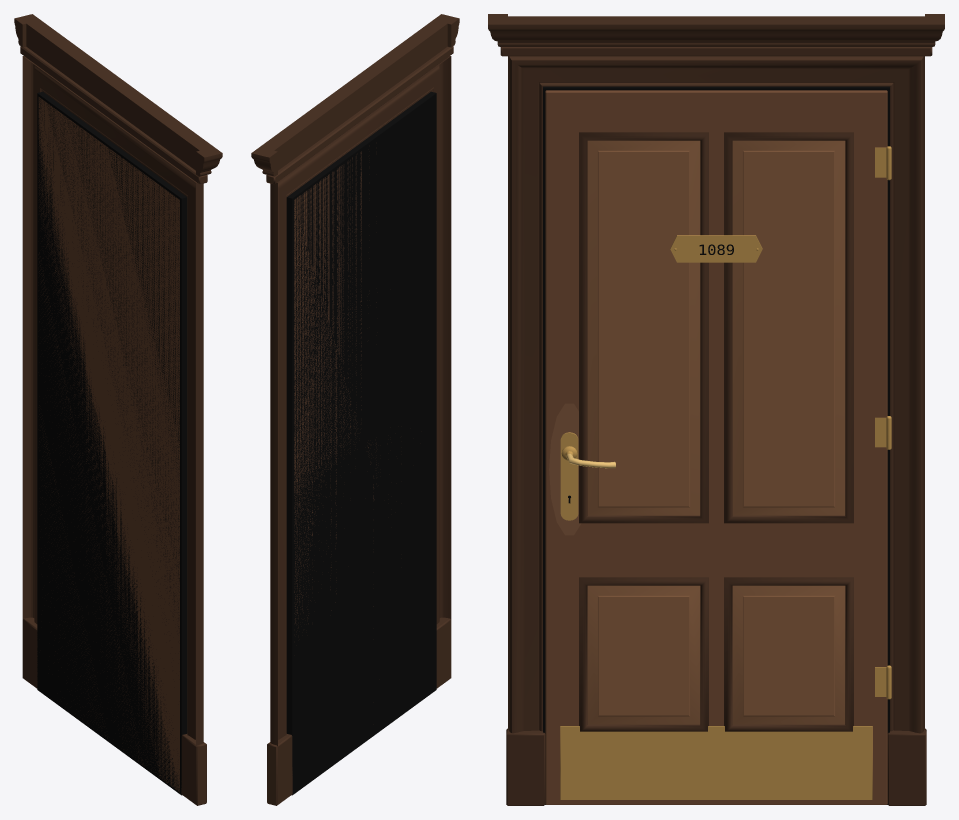
File: hotel_door_f@1.glb
3 views of the same model, side by side, from view 1: azimuth 30°, elevation 25°; view 2: azimuth 150°, elevation 25°; view 3: azimuth 270°, elevation 25° (orthographic). The views are drawn at different scales.
Visible parts, largest first — view 1: fuge, blatt, bekleidung, verdachung; view 2: fuge, bekleidung, blatt, verdachung; view 3: fuellungen, blatt, bekleidung, kehlleisten, beschlag, verdachung, fuge, nummernschild, abrieb.
Part boxes in pixels (box(x1,y1,x2,y2)): fuge: box(37, 91, 187, 795); blatt: box(38, 97, 179, 792); bekleidung: box(22, 56, 206, 805); verdachung: box(14, 14, 222, 184); fuge: box(286, 91, 436, 795); bekleidung: box(267, 56, 451, 805); blatt: box(294, 151, 376, 627); verdachung: box(251, 14, 459, 184); fuellungen: box(587, 140, 845, 724); blatt: box(545, 90, 887, 804); bekleidung: box(506, 56, 926, 805); kehlleisten: box(579, 132, 853, 731); beschlag: box(560, 146, 891, 799); verdachung: box(488, 14, 944, 56); fuge: box(543, 86, 889, 804); nummernschild: box(670, 235, 762, 262); abrieb: box(549, 403, 581, 535).
Bounding box in the file's own units: 0.1118 × 2.33 × 1.23.
